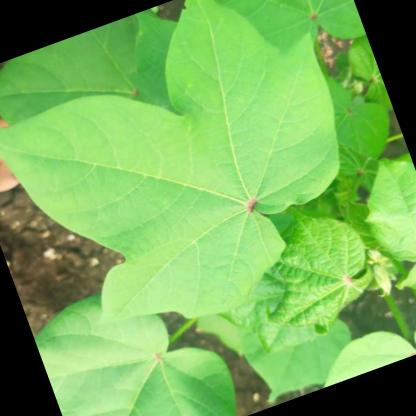cotton: (0, 0, 387, 376)
